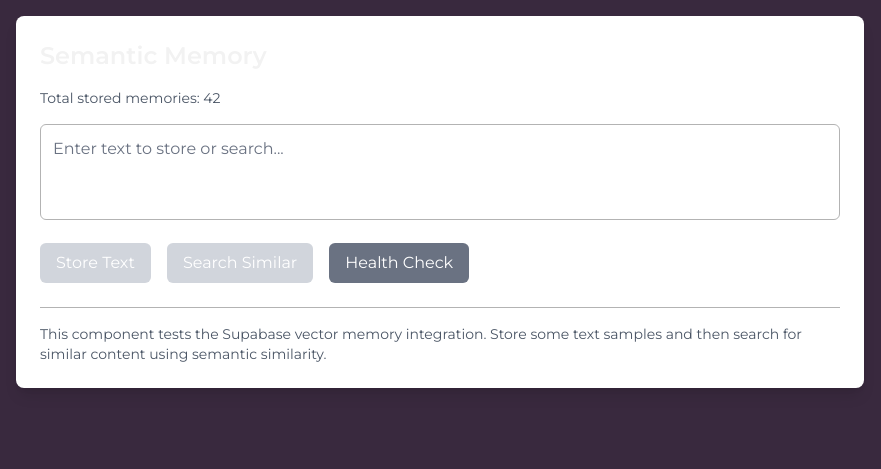
Test case: VectorMemory › store functionality › should refresh memory count after store
The image size is (881, 469).
Expected: the text "Total stored memories: 42" is shown, [40,89,220,107]
Type "New memory" into the text box with placeholder "Enter text to store or search..." at [440, 172], box [40,124,840,220]
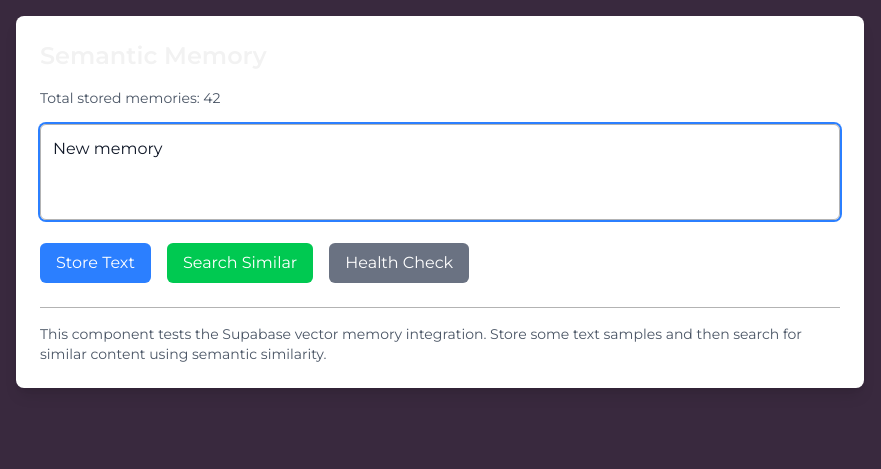
Click the button "Store Text" at [95, 263], box [40,243,151,283]
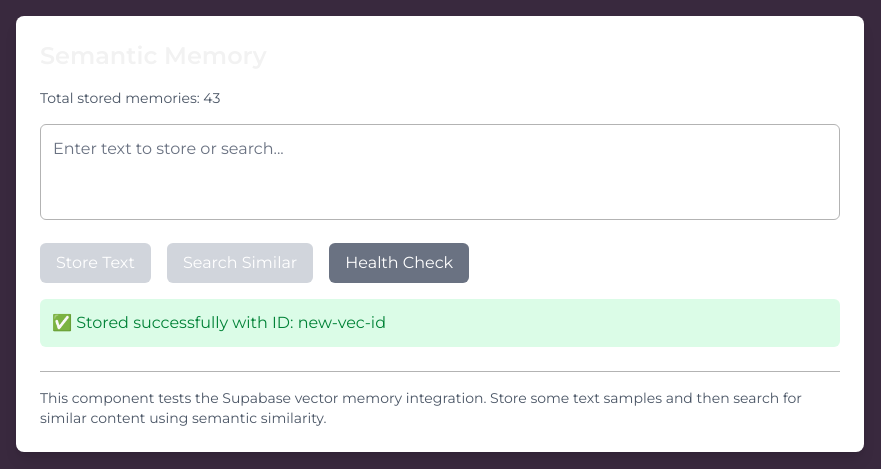
Now the text "Total stored memories: 43" is shown, box [40,89,220,107]
